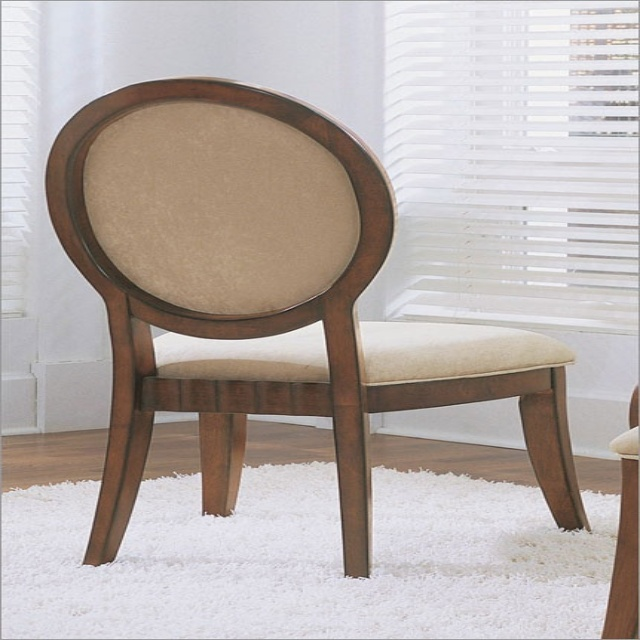obstacle: (46, 78, 587, 576)
